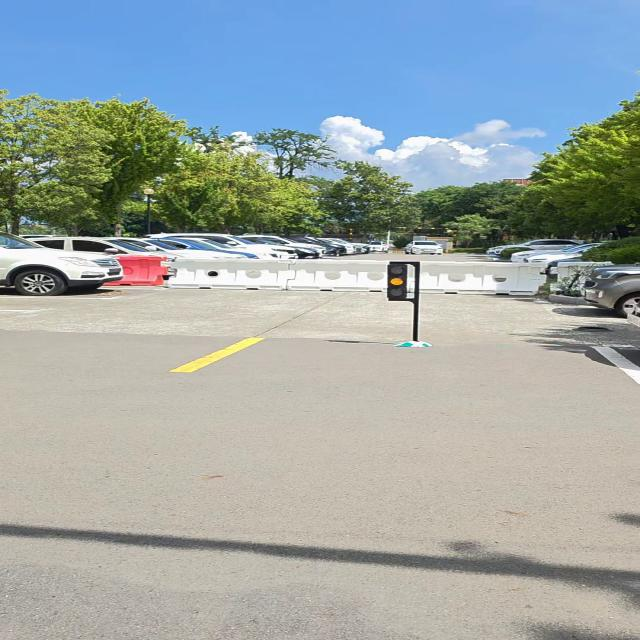yellow: (385, 264, 409, 300)
